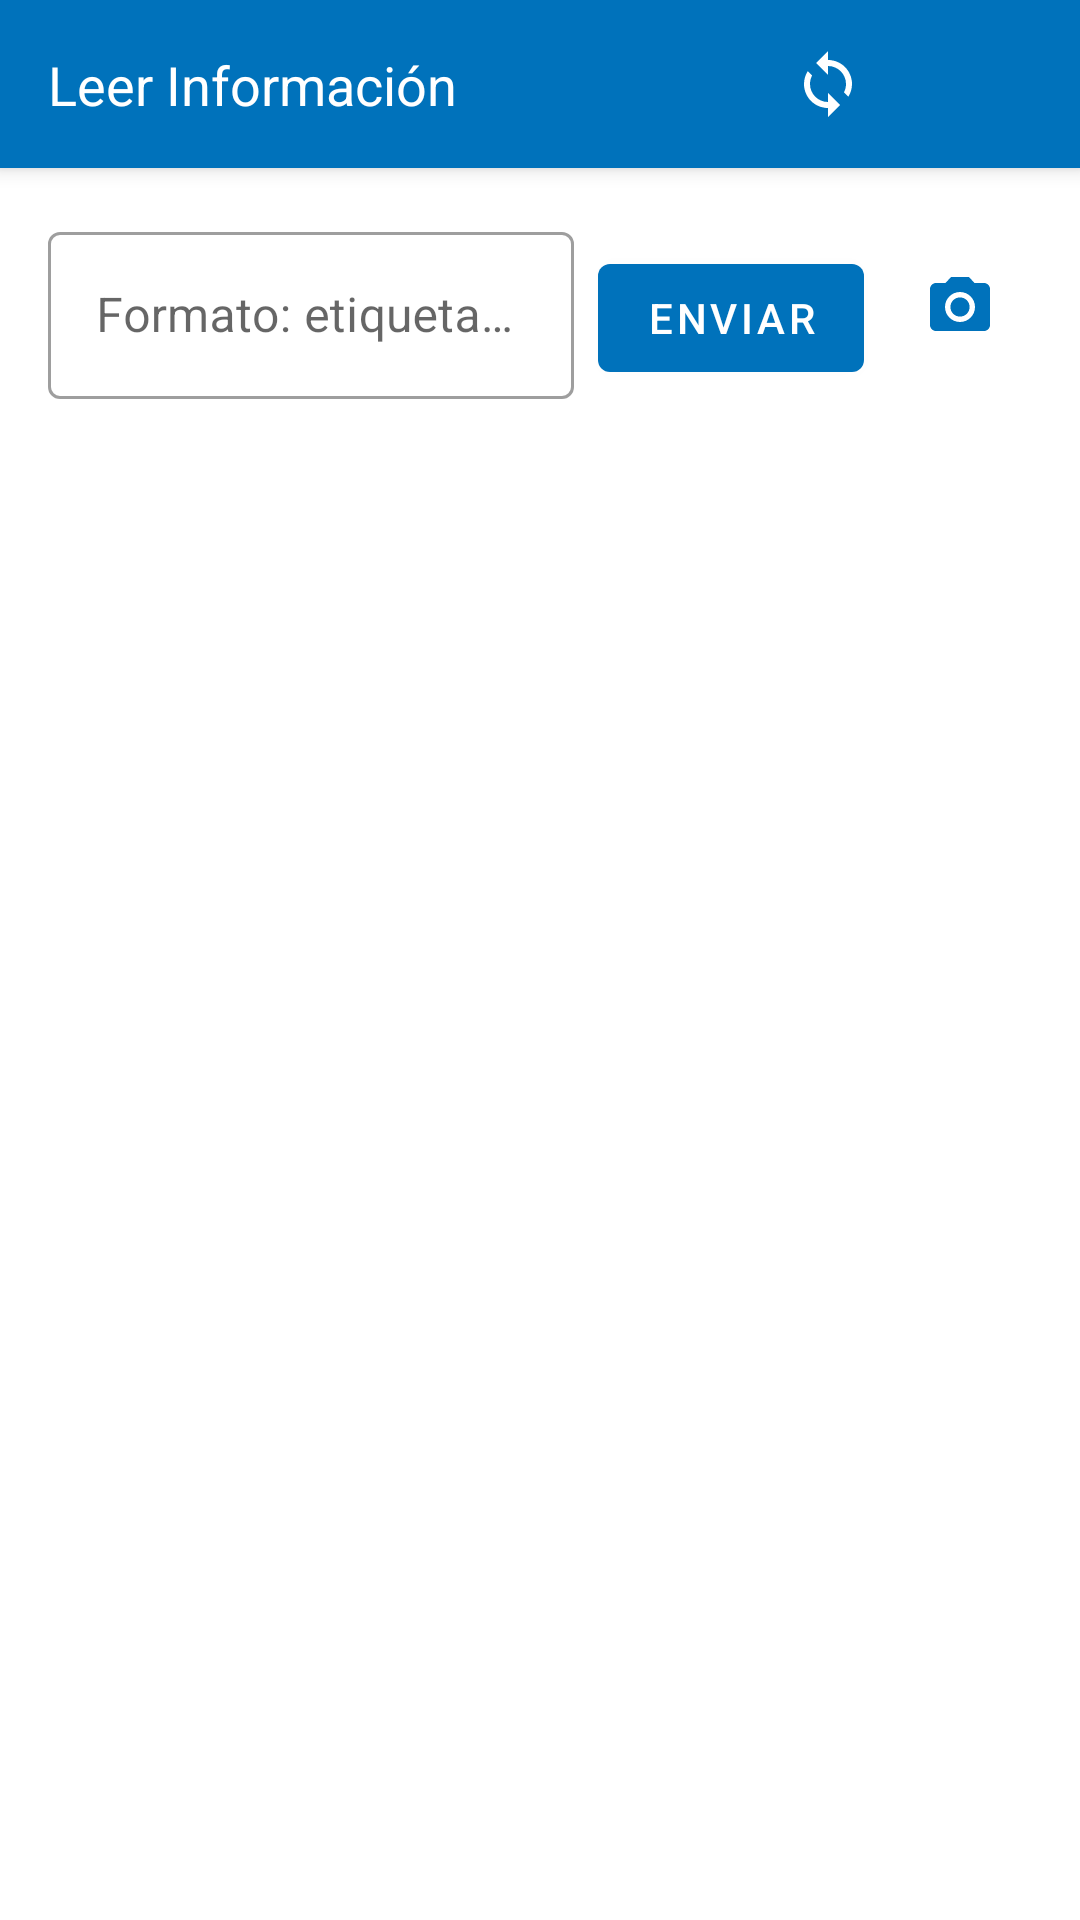

Where icons sit on this 1080*1920 app screen, as bbox(x1, y1, x2, y2):
Abrir cámara: bbox(930, 277, 990, 331)
Sincronizar: bbox(804, 51, 852, 117)
